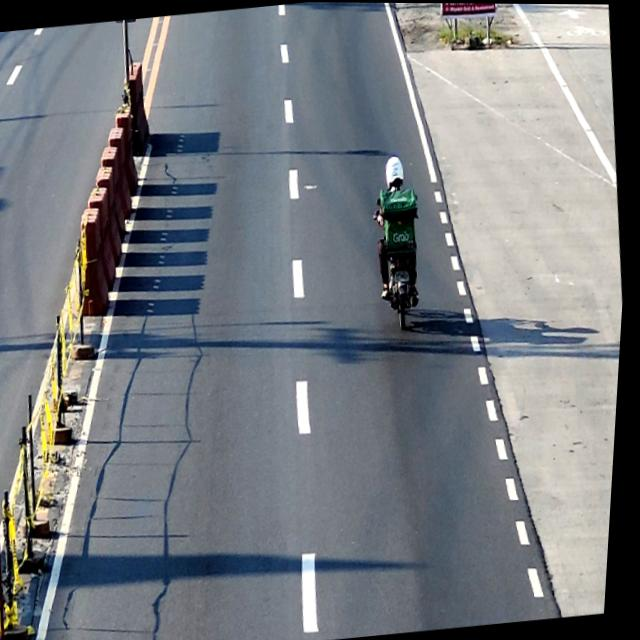License-Plate: (397, 269, 412, 281)
Motorcycle: (369, 194, 434, 332)
